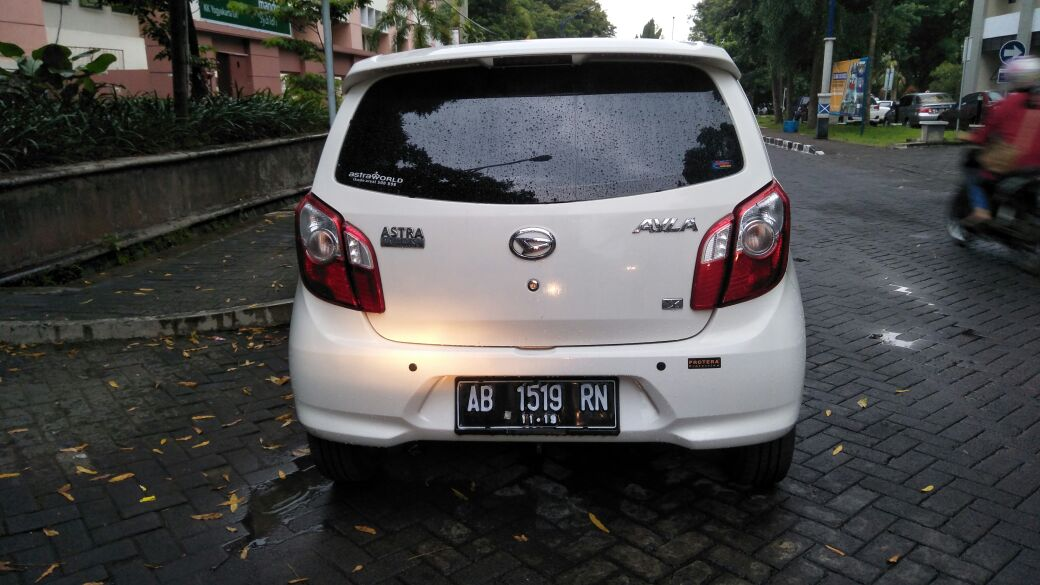plate: (453, 372, 620, 435)
